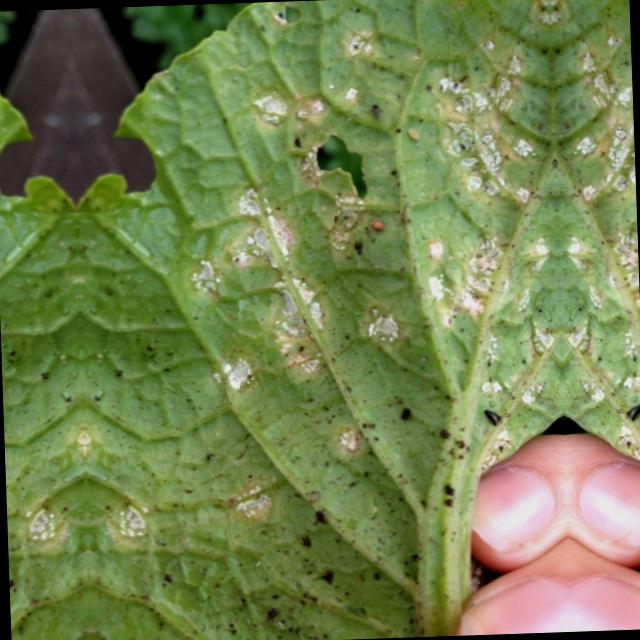Downy_mildew: (69, 0, 571, 638), (0, 9, 91, 640), (548, 0, 640, 621)
